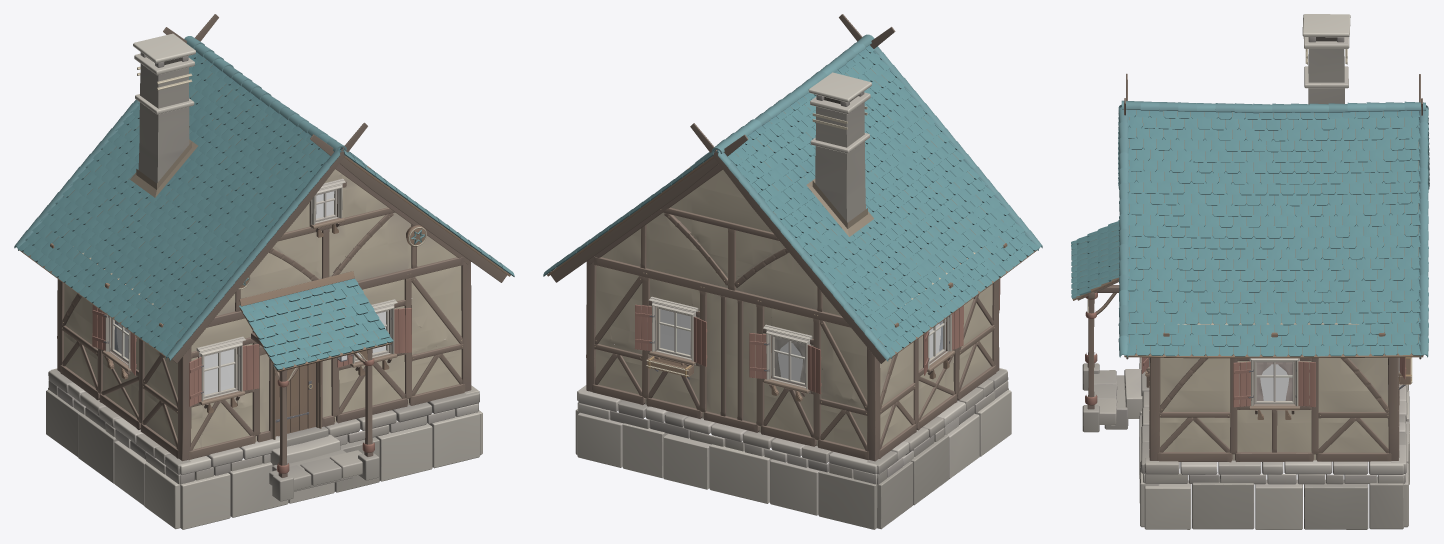
Rendered from bd_house_bau.glb.
3 renders of one model, left to right at view 1: azimuth 30°, elevation 25°; view 2: azimuth 150°, elevation 25°; view 3: azimuth 270°, elevation 25°, orthographic.
Visible parts, largest first — view 1: BD_house_bau__body; view 2: BD_house_bau__body; view 3: BD_house_bau__body.
Part boxes in pixels (x1,y1,x2,y2): BD_house_bau__body: [14, 14, 514, 529]; BD_house_bau__body: [543, 14, 1042, 529]; BD_house_bau__body: [1071, 14, 1429, 529].
Size of the model in its own units: 8.49 by 9.3 by 7.64.
